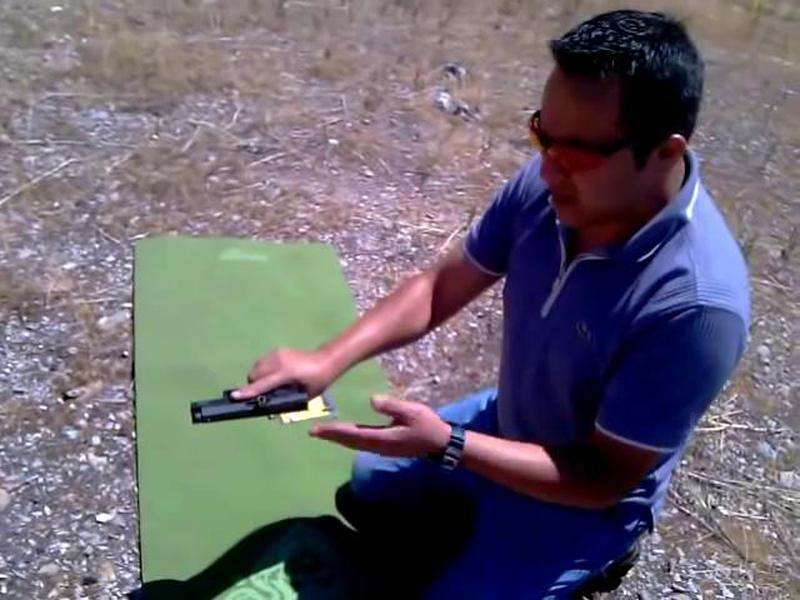Pistola: (148, 364, 333, 436)
